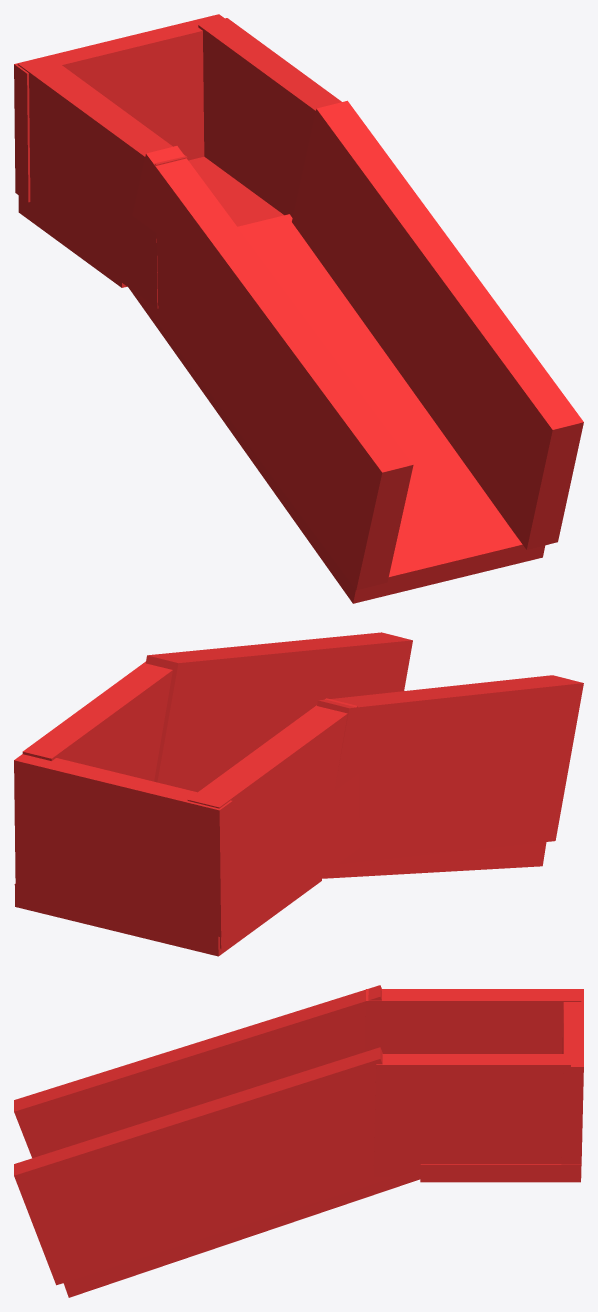
File: Ausssichtfbx.FBX
The picture shows the model from 3 angles, top to bottom: view 1: azimuth 30°, elevation 25°; view 2: azimuth 150°, elevation 25°; view 3: azimuth 270°, elevation 25°; orthographic projection. The views are drawn at different scales.
Parts seen in each view (by area): view 1: Box001; view 2: Box001; view 3: Box001.
Part boxes in pixels (bbox=[...]): Box001: bbox=[14, 14, 583, 603]; Box001: bbox=[14, 632, 583, 956]; Box001: bbox=[14, 985, 583, 1297].
Size of the model in its own units: 27.12 by 38.93 by 83.46.
